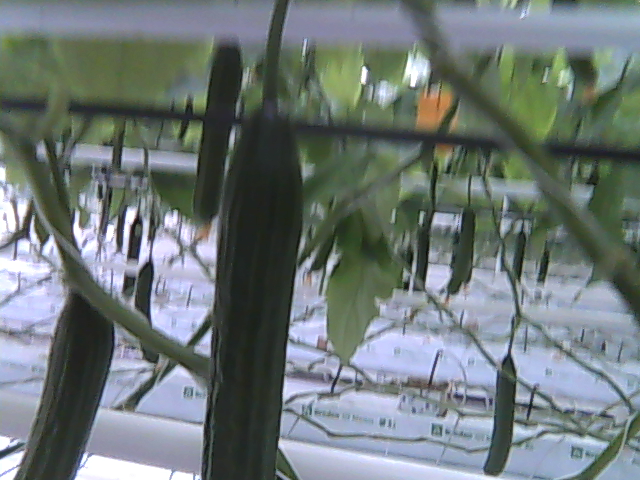concombre: (199, 88, 311, 480), (10, 271, 119, 480)
